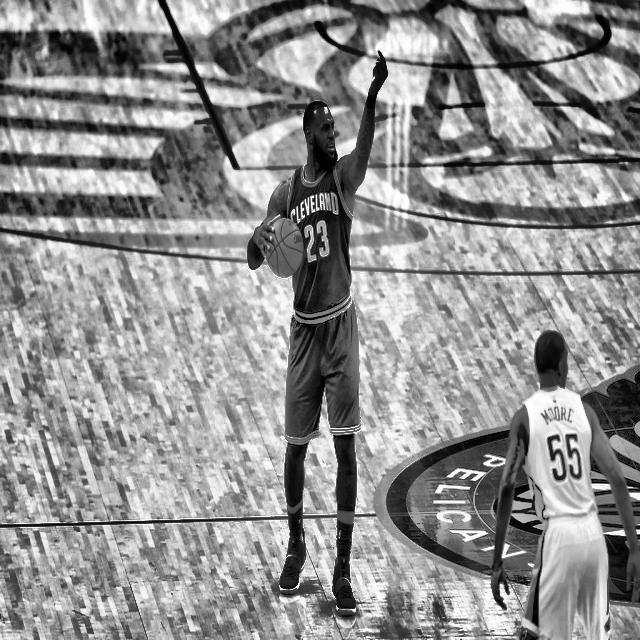Basketball: (266, 217, 304, 276)
